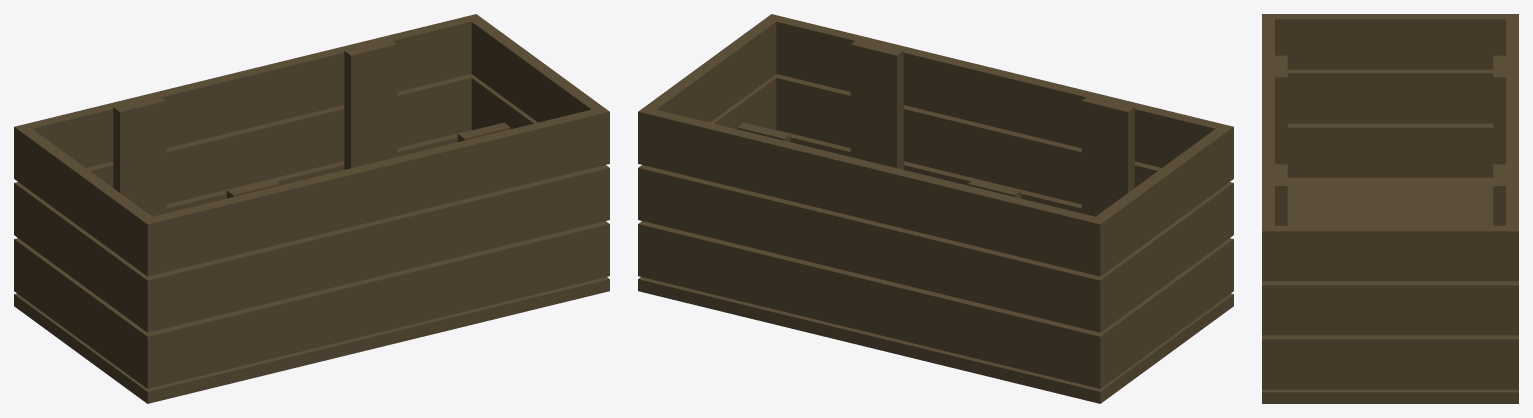
Rendered from roman_crate_open_rect.fbx.
The picture shows the model from 3 angles, left to right: view 1: azimuth 30°, elevation 25°; view 2: azimuth 150°, elevation 25°; view 3: azimuth 270°, elevation 25°; orthographic projection. The views are drawn at different scales.
Parts seen in each view (by area): view 1: Cube.071; view 2: Cube.071; view 3: Cube.071.
Boxes of the visible parts, left/top/right/bottom form: Cube.071: left=14, top=14, right=609, bottom=403; Cube.071: left=638, top=14, right=1233, bottom=403; Cube.071: left=1262, top=14, right=1518, bottom=403.
Size of the model in its own units: 2 by 0.75 by 1.
